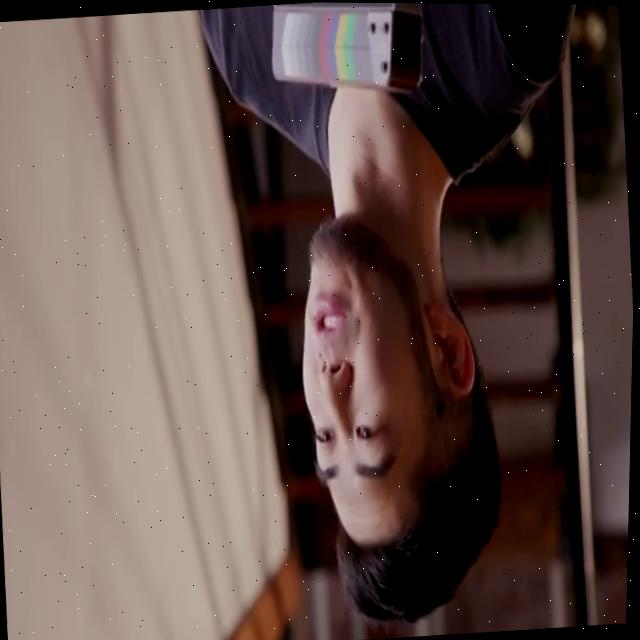Clapperboard: (265, 2, 431, 108)
